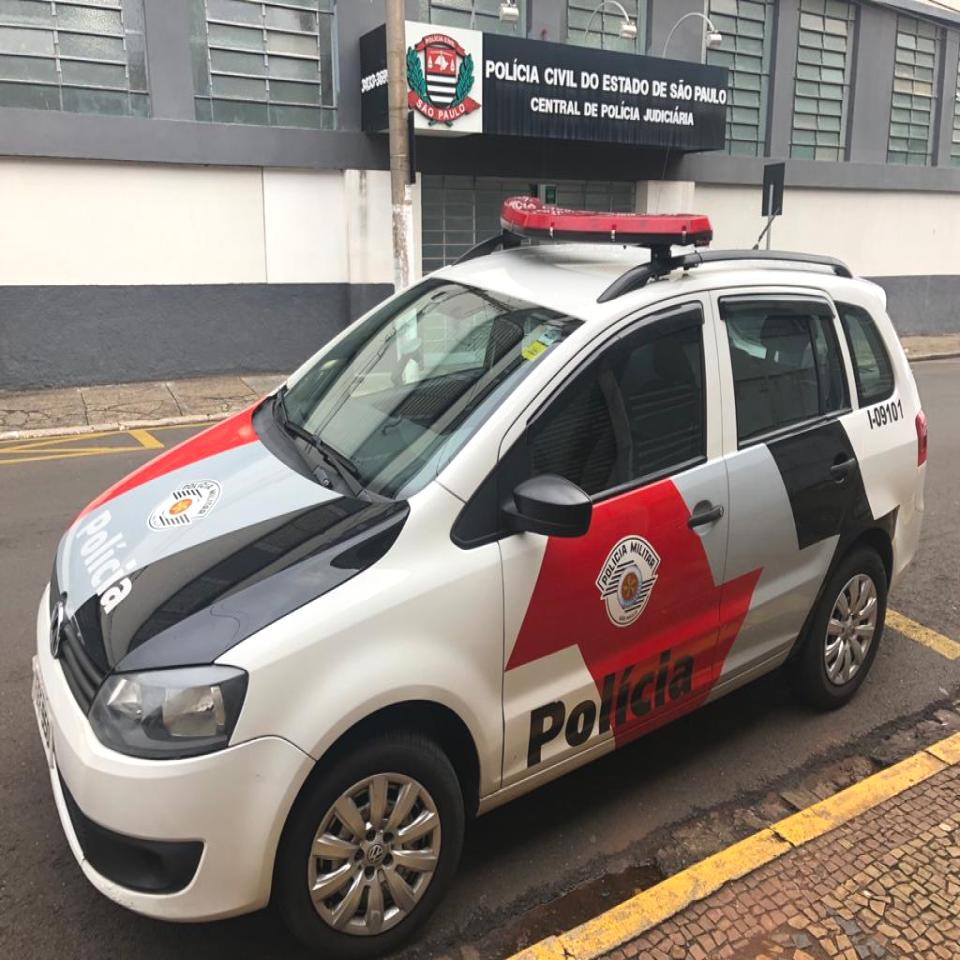viatura: (31, 196, 931, 960)
